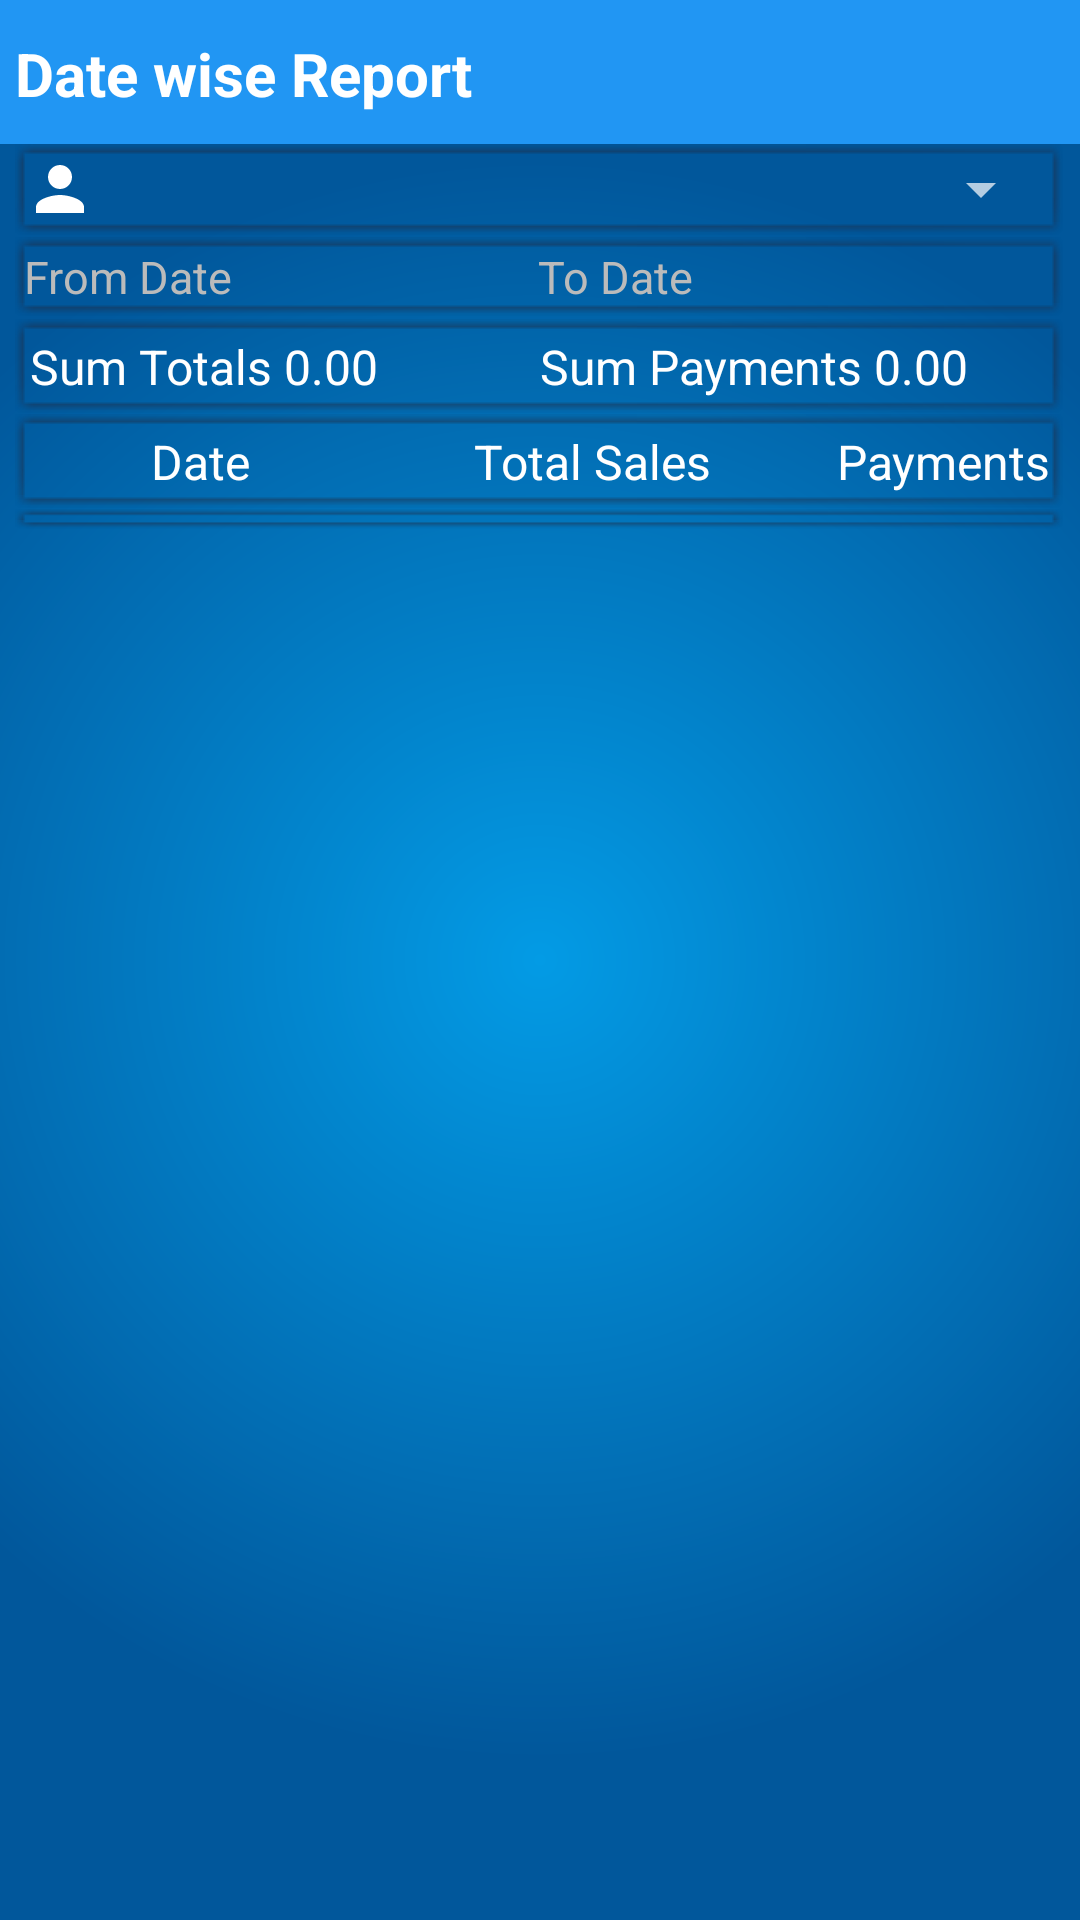

Named icons in this screenshot (1080px x 1920px) and their centers, [x,y]:
person: [60,189]
